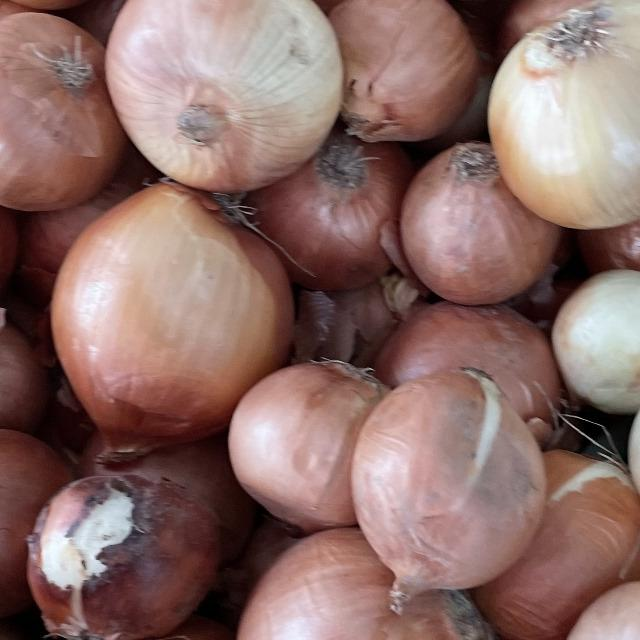onion: (28, 158, 320, 478), (342, 348, 555, 630), (87, 0, 362, 205), (465, 0, 640, 260), (0, 0, 137, 197)
